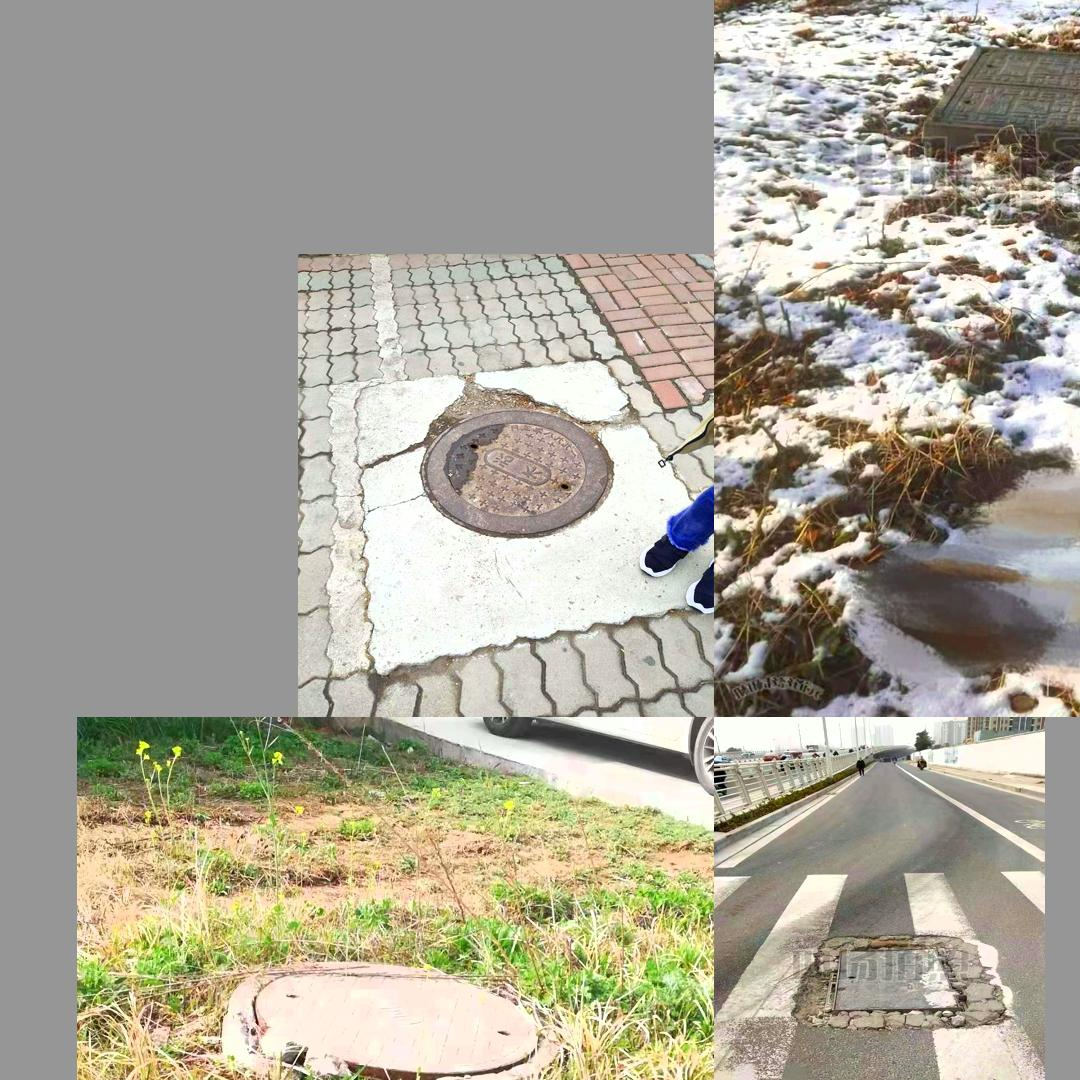circle: (372, 378, 650, 559), (225, 952, 583, 1080), (907, 46, 1080, 177), (842, 1065, 1080, 1080)
